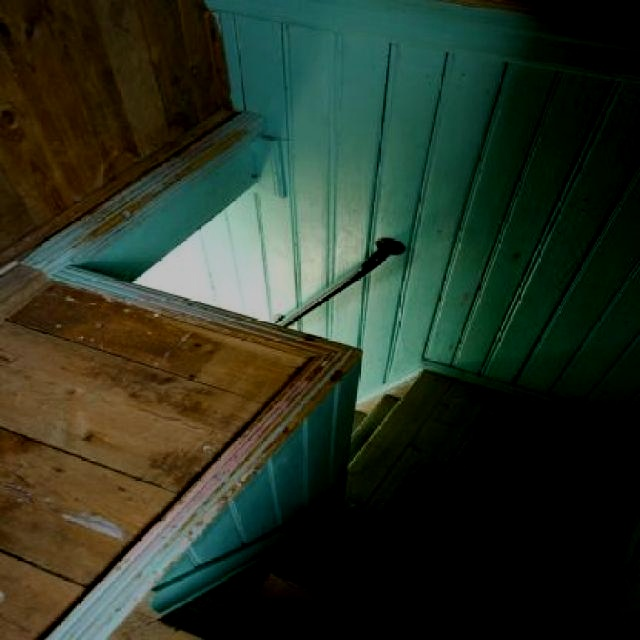stair: (175, 521, 609, 640), (346, 368, 426, 469)
